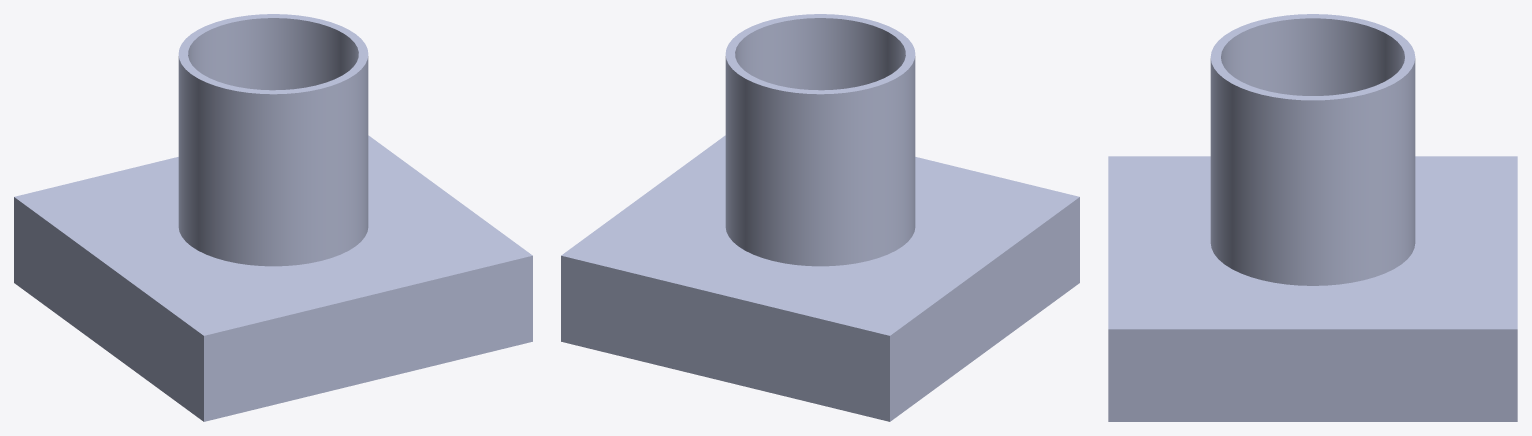
3 views of the same model, side by side, from view 1: azimuth 30°, elevation 25°; view 2: azimuth 150°, elevation 25°; view 3: azimuth 270°, elevation 25° (orthographic). The views are drawn at different scales.
Parts seen in each view (by area): view 1: CylinderbaseSLDPRT-1, cylinderpart-1; view 2: CylinderbaseSLDPRT-1, cylinderpart-1; view 3: CylinderbaseSLDPRT-1, cylinderpart-1.
Boxes of the visible parts, x1=… form: CylinderbaseSLDPRT-1: x1=14, y1=135, x2=532, y2=421; cylinderpart-1: x1=178, y1=14, x2=368, y2=266; CylinderbaseSLDPRT-1: x1=561, y1=135, x2=1079, y2=421; cylinderpart-1: x1=725, y1=14, x2=915, y2=266; CylinderbaseSLDPRT-1: x1=1108, y1=156, x2=1517, y2=421; cylinderpart-1: x1=1210, y1=14, x2=1415, y2=285.
Bounding box in the file's own units: 0.1 × 0.075 × 0.1.
